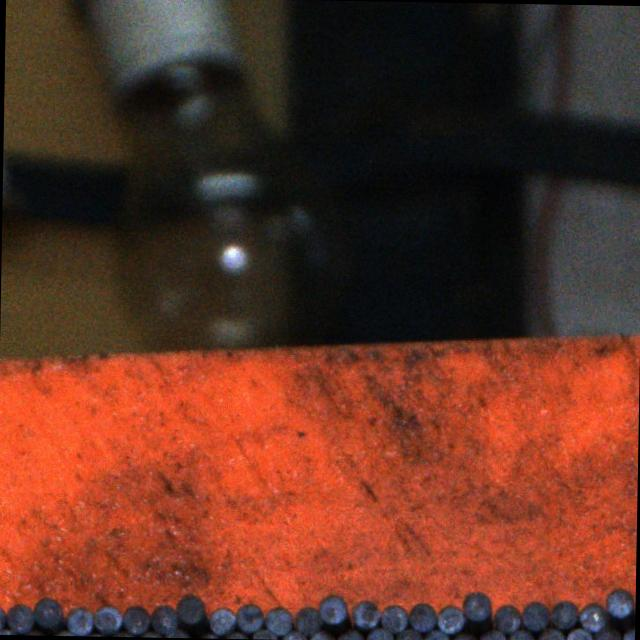tool: (32, 597, 64, 630), (578, 601, 608, 631), (176, 594, 206, 624), (235, 602, 264, 632), (463, 589, 492, 619), (519, 600, 548, 630), (319, 593, 348, 623), (548, 598, 577, 628), (352, 599, 382, 628), (6, 604, 34, 634), (606, 588, 634, 618), (494, 602, 522, 632), (264, 605, 292, 634), (92, 605, 120, 634), (408, 602, 436, 630), (123, 604, 151, 632), (438, 604, 466, 632), (152, 604, 180, 632), (295, 606, 322, 634), (66, 606, 92, 635), (382, 604, 408, 632), (210, 606, 236, 633), (335, 627, 363, 640), (566, 627, 593, 640), (592, 627, 619, 640), (367, 627, 394, 640), (536, 628, 563, 640), (396, 628, 422, 640), (252, 628, 280, 639), (478, 629, 504, 640), (507, 629, 533, 640), (424, 629, 450, 640), (164, 628, 192, 638), (280, 630, 306, 640), (308, 630, 334, 640), (450, 631, 476, 640), (20, 628, 48, 636), (51, 629, 80, 636), (108, 631, 137, 637), (223, 632, 249, 638), (622, 627, 634, 640), (136, 631, 162, 637), (196, 632, 222, 638), (0, 602, 5, 631), (0, 628, 18, 634)
